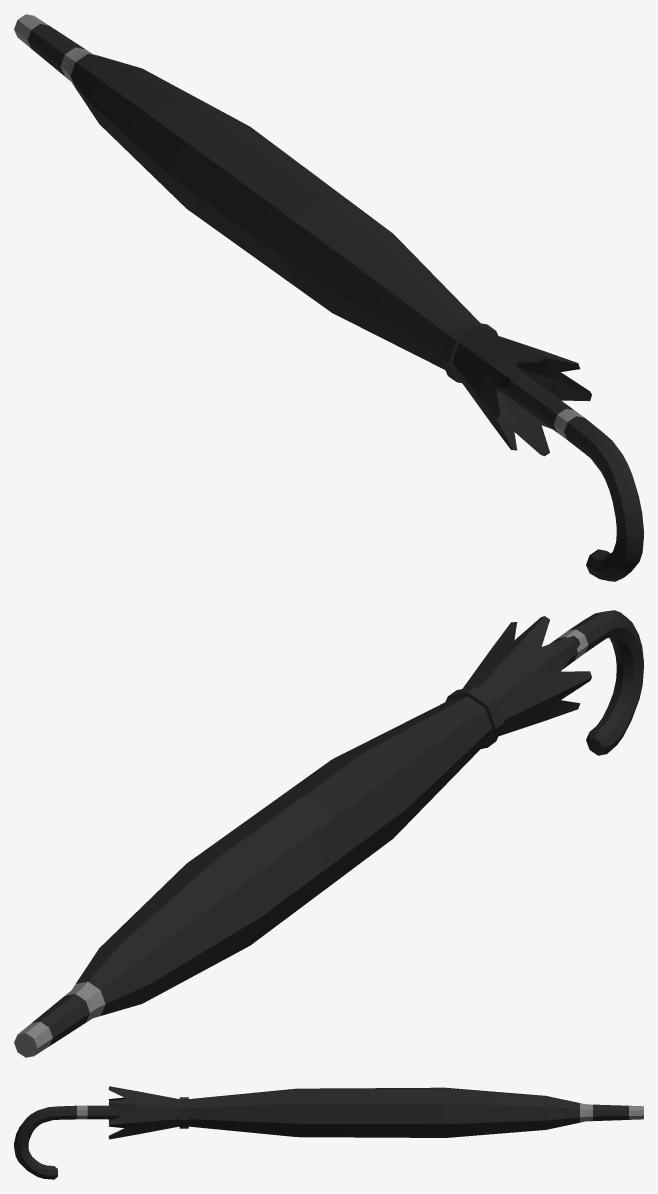
File: umbrella.FBX
3 renders of one model, top to bottom at view 1: azimuth 30°, elevation 25°; view 2: azimuth 150°, elevation 25°; view 3: azimuth 270°, elevation 25°, orthographic. The views are drawn at different scales.
Visible parts, largest first — view 1: Cylinder001; view 2: Cylinder001; view 3: Cylinder001.
Part boxes in pixels (x1,y1,x2,y2): Cylinder001: (14, 14, 643, 581); Cylinder001: (14, 610, 643, 1057); Cylinder001: (14, 1086, 643, 1179).
Size of the model in its own units: 21.41 by 38.48 by 238.
